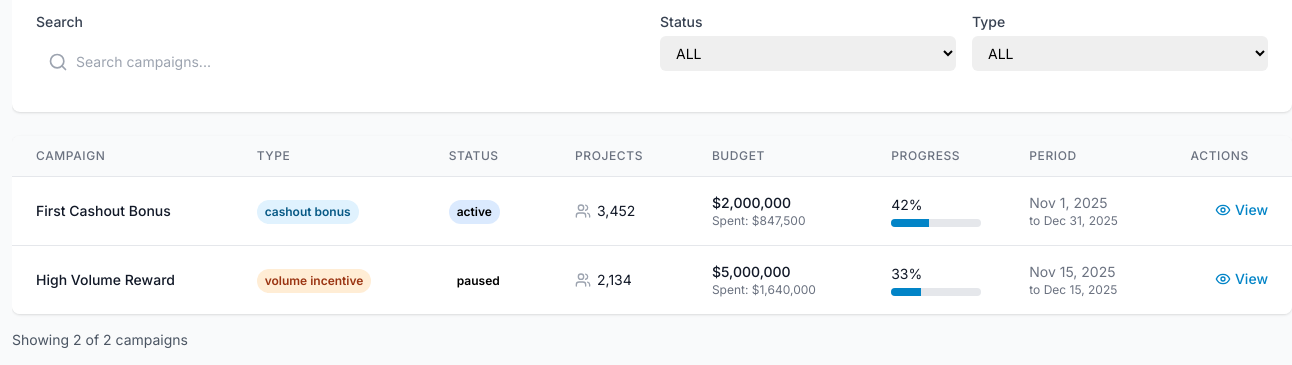
Scenario: CampaignsClient Component › Rendering › Search Functionality › should clear search results when input is cleared
// Type search term
Type "Cashout" into the field with placeholder "Search campaigns..." at (340, 62), box [36,36,644,88]
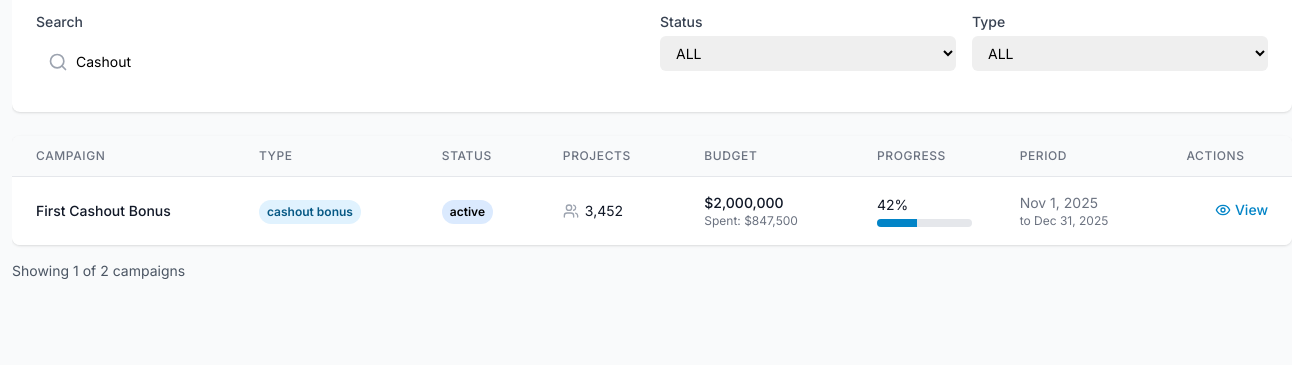
expect the text "Showing 1 of 2 campaigns" is shown: met, box [12,262,185,279]
// Clear search
Clear the field with placeholder "Search campaigns..." at (340, 62), box [36,36,644,88]
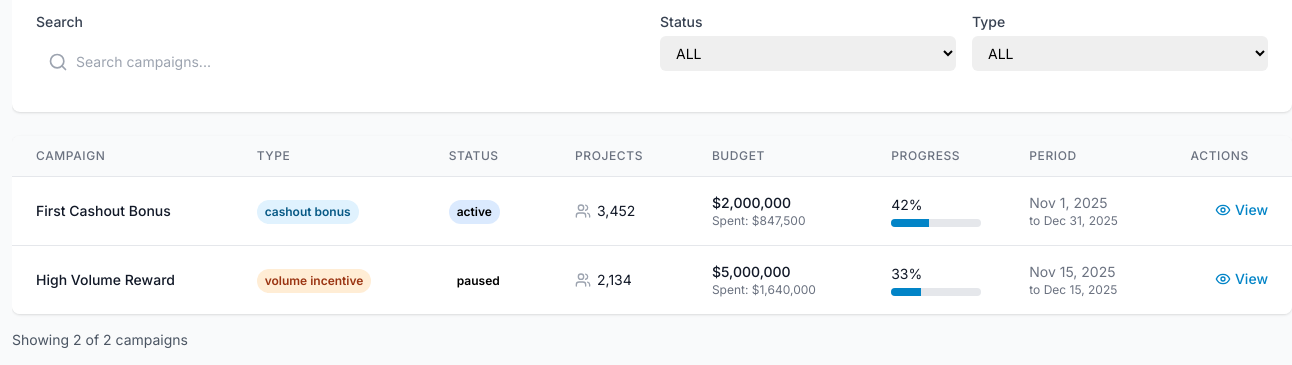
expect the text "Showing 2 of 2 campaigns" is shown: met, box [12,331,188,348]
